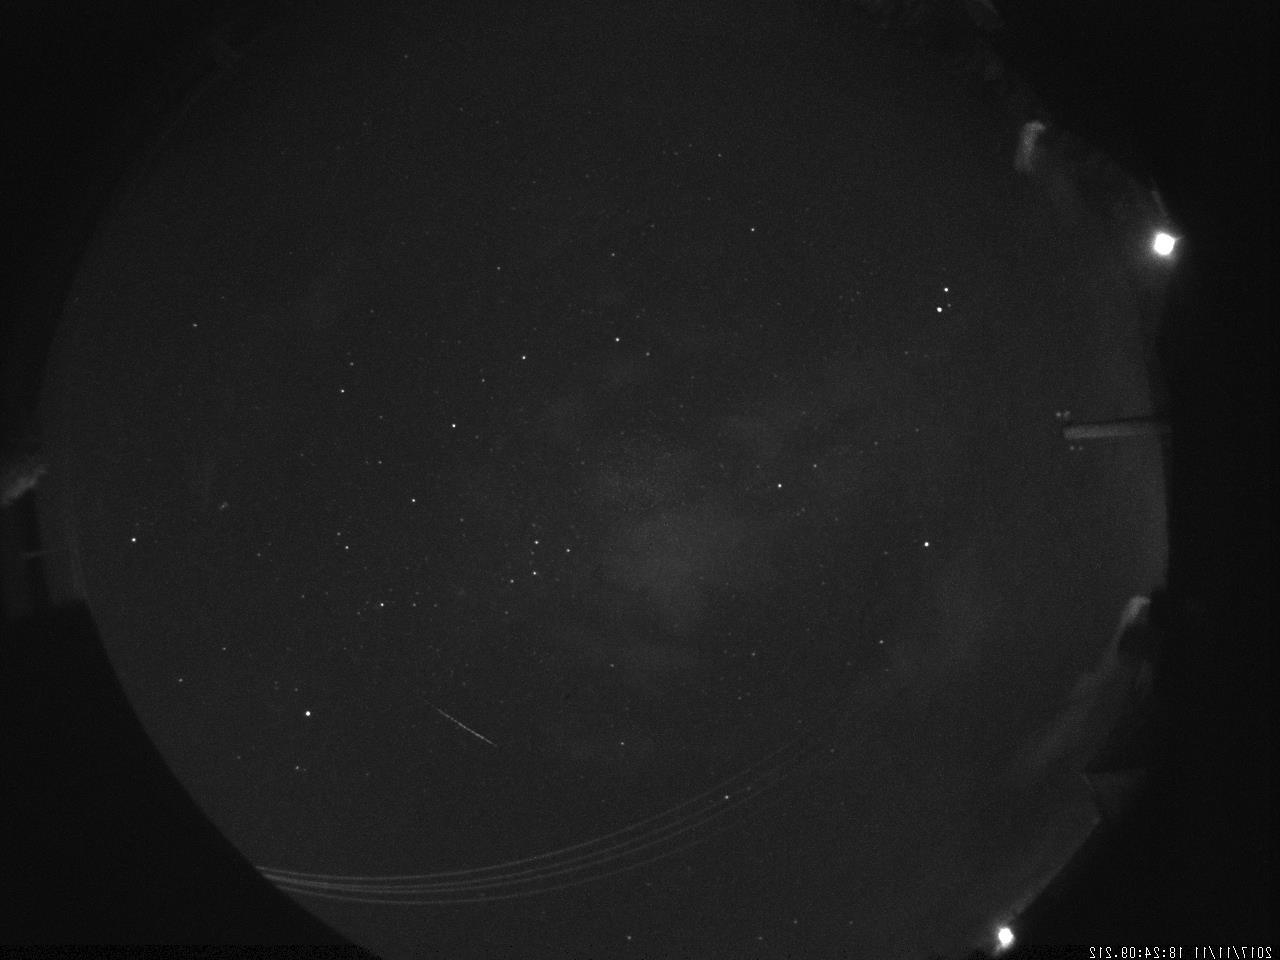meteor: (417, 691, 509, 754)
